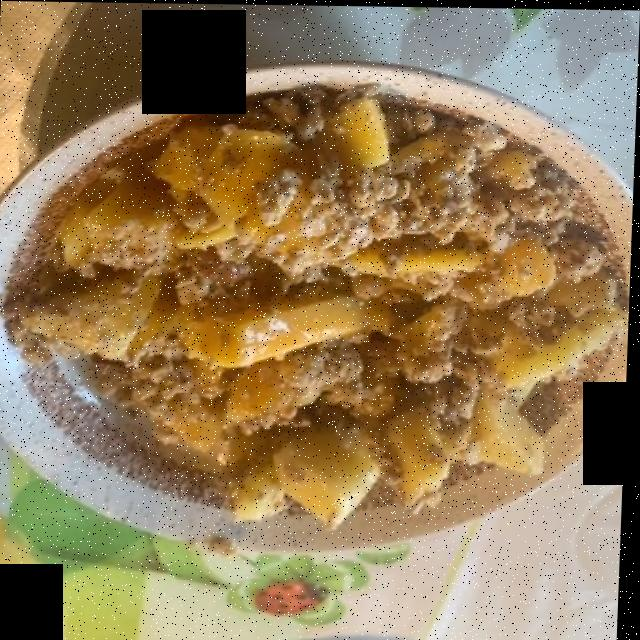fruit-salad: (22, 106, 610, 517)
muesli: (29, 96, 611, 518)
